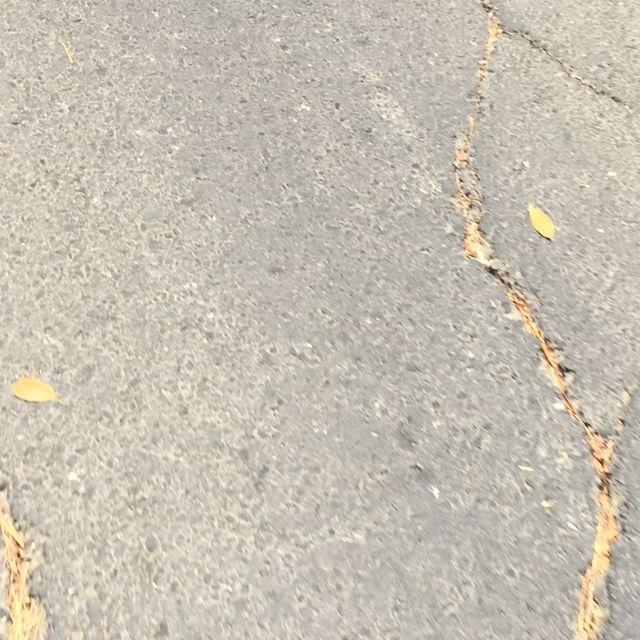retak_memanjang: (230, 0, 640, 640)
